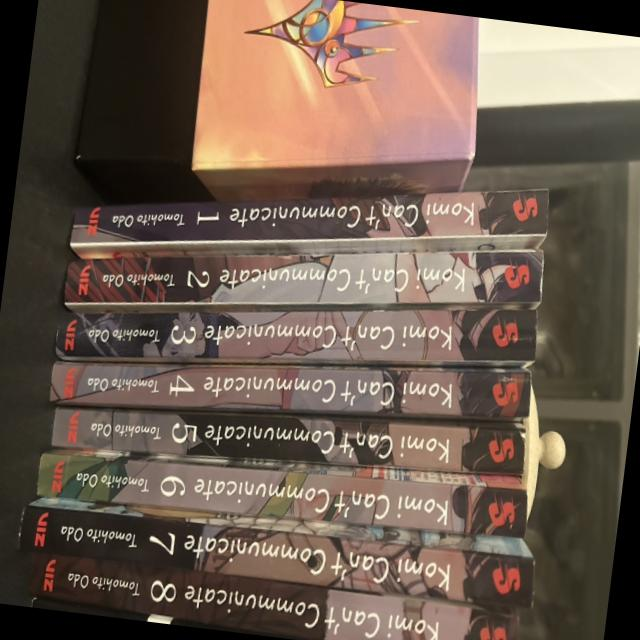book: (17, 495, 536, 608), (36, 438, 528, 538), (26, 552, 519, 640), (68, 189, 549, 262), (50, 403, 525, 475), (62, 250, 542, 313), (55, 305, 536, 366), (48, 360, 530, 420)
